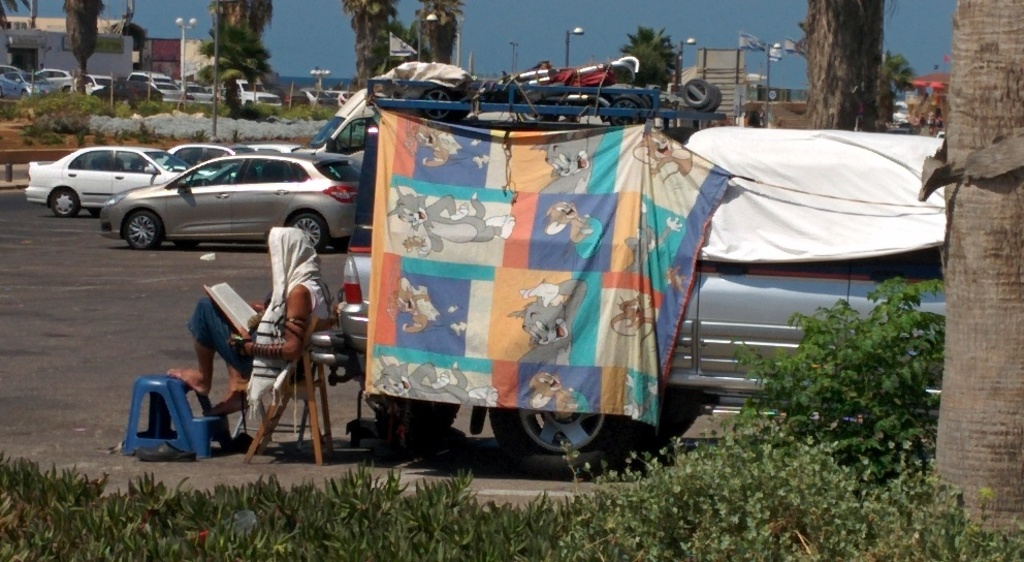Car: (100, 151, 359, 250), (0, 65, 284, 110), (19, 144, 184, 212), (147, 143, 235, 171)
